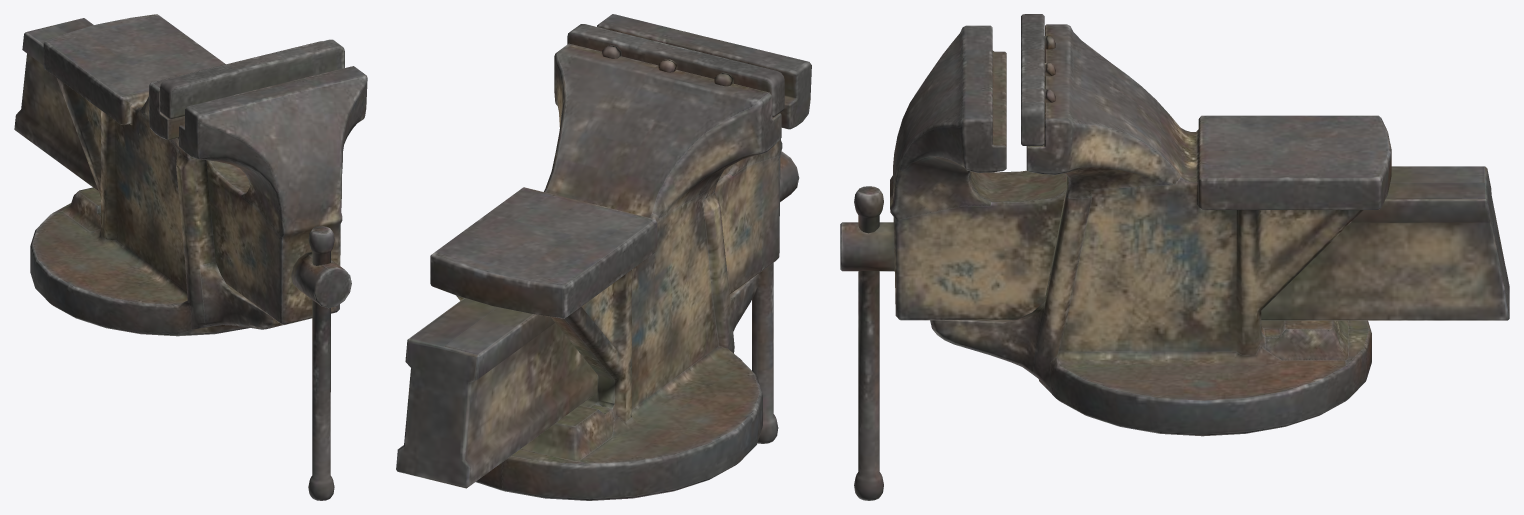
Rendered from bench-vise.glb.
The picture shows the model from 3 angles, left to right: view 1: azimuth 30°, elevation 25°; view 2: azimuth 150°, elevation 25°; view 3: azimuth 270°, elevation 25°; orthographic projection. The views are drawn at different scales.
Visible parts, largest first — view 1: bench_vice_frame_web, bench_vice_clamp_web, bench_vice_bar_web, bench_vice_dial_web; view 2: bench_vice_frame_web, bench_vice_clamp_web, bench_vice_bar_web, bench_vice_dial_web; view 3: bench_vice_frame_web, bench_vice_clamp_web, bench_vice_bar_web, bench_vice_dial_web.
Boxes of the visible parts, x1=… form: bench_vice_frame_web: x1=30, y1=14, x2=344, y2=336; bench_vice_clamp_web: x1=14, y1=18, x2=367, y2=324; bench_vice_bar_web: x1=308, y1=226, x2=334, y2=500; bench_vice_dial_web: x1=291, y1=252, x2=351, y2=308; bench_vice_frame_web: x1=430, y1=24, x2=784, y2=500; bench_vice_clamp_web: x1=396, y1=14, x2=811, y2=488; bench_vice_bar_web: x1=752, y1=263, x2=778, y2=443; bench_vice_dial_web: x1=780, y1=151, x2=799, y2=201; bench_vice_frame_web: x1=930, y1=14, x2=1391, y2=436; bench_vice_clamp_web: x1=890, y1=25, x2=1509, y2=320; bench_vice_bar_web: x1=854, y1=186, x2=883, y2=500; bench_vice_dial_web: x1=840, y1=222, x2=894, y2=271.
Size of the model in its own units: 0.7031 by 1 by 1.39.
Materials: 1 (1 with a texture image).
